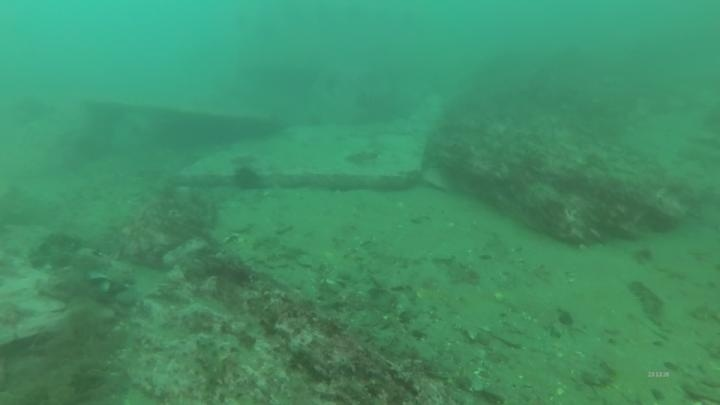echinus: (230, 163, 267, 194)
holothurian: (190, 331, 235, 404), (623, 278, 675, 331)
